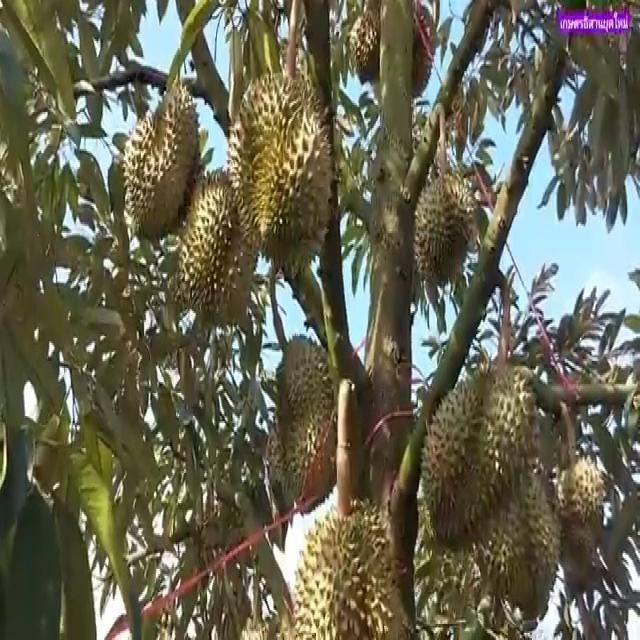durian: (418, 353, 544, 555), (224, 66, 338, 287), (450, 458, 564, 629), (290, 491, 406, 638), (264, 324, 346, 521), (175, 164, 266, 326), (118, 78, 204, 249), (410, 168, 479, 291), (552, 454, 606, 588), (347, 2, 396, 86)
